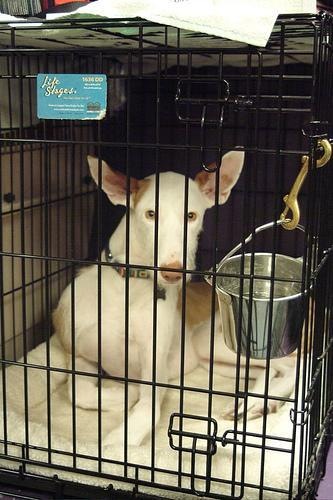Ibizan_hound: (47, 143, 250, 450)
